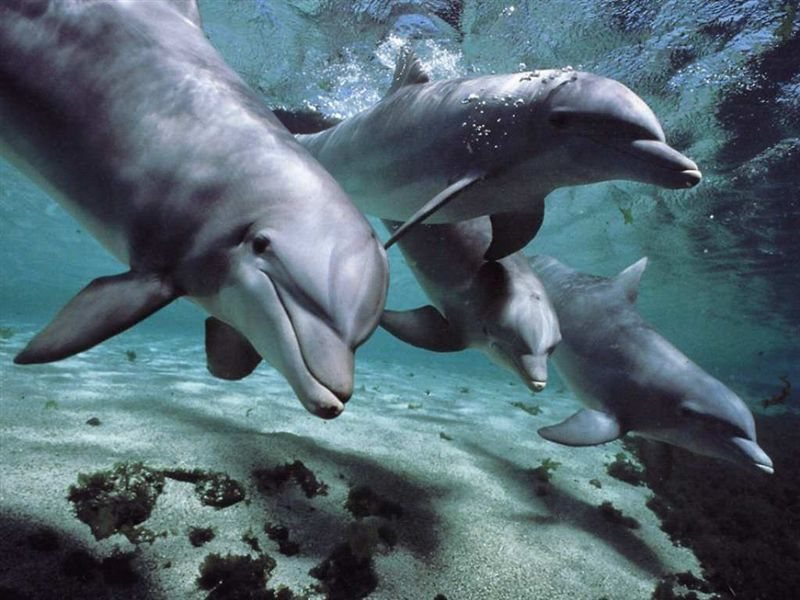dolphin: (3, 1, 389, 437), (308, 52, 705, 235), (526, 240, 781, 504)
